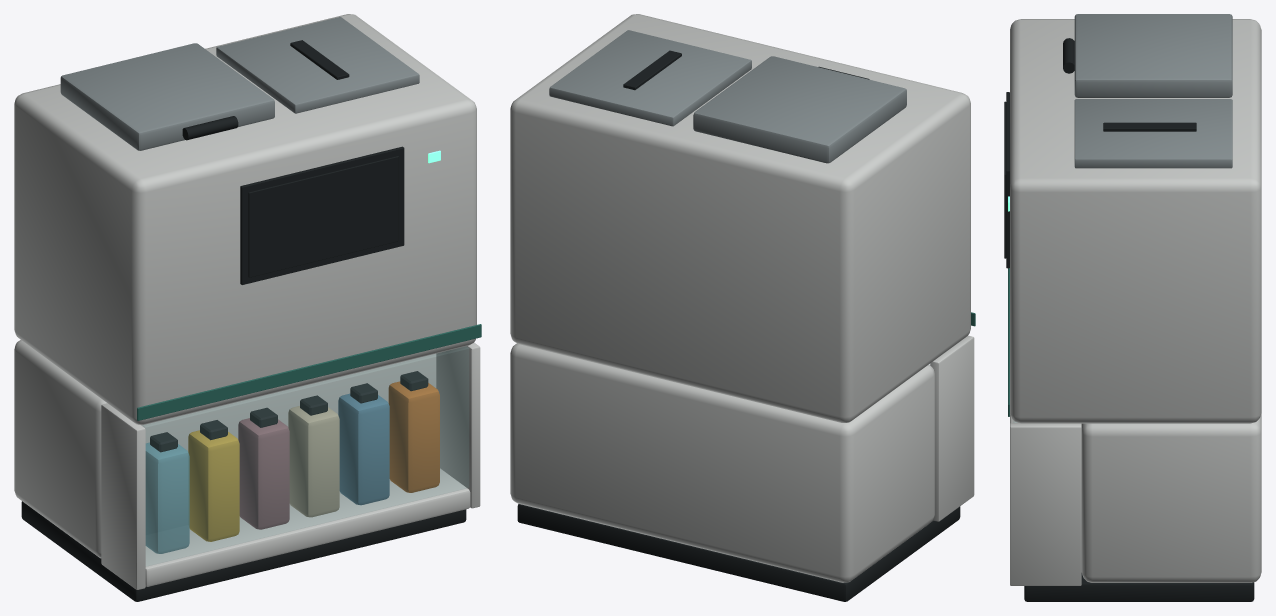
The model's file is tissue-processor.glb.
The picture shows the model from 3 angles, left to right: view 1: azimuth 30°, elevation 25°; view 2: azimuth 150°, elevation 25°; view 3: azimuth 270°, elevation 25°; orthographic projection.
Visible parts, largest first — view 1: tissue-processor; view 2: tissue-processor; view 3: tissue-processor.
Part boxes in pixels (left/top/right/bottom): tissue-processor: left=14, top=14, right=481, bottom=601; tissue-processor: left=510, top=14, right=975, bottom=601; tissue-processor: left=1004, top=14, right=1261, bottom=601.
Bounding box in the file's own units: 1.1 × 1.36 × 0.715.
